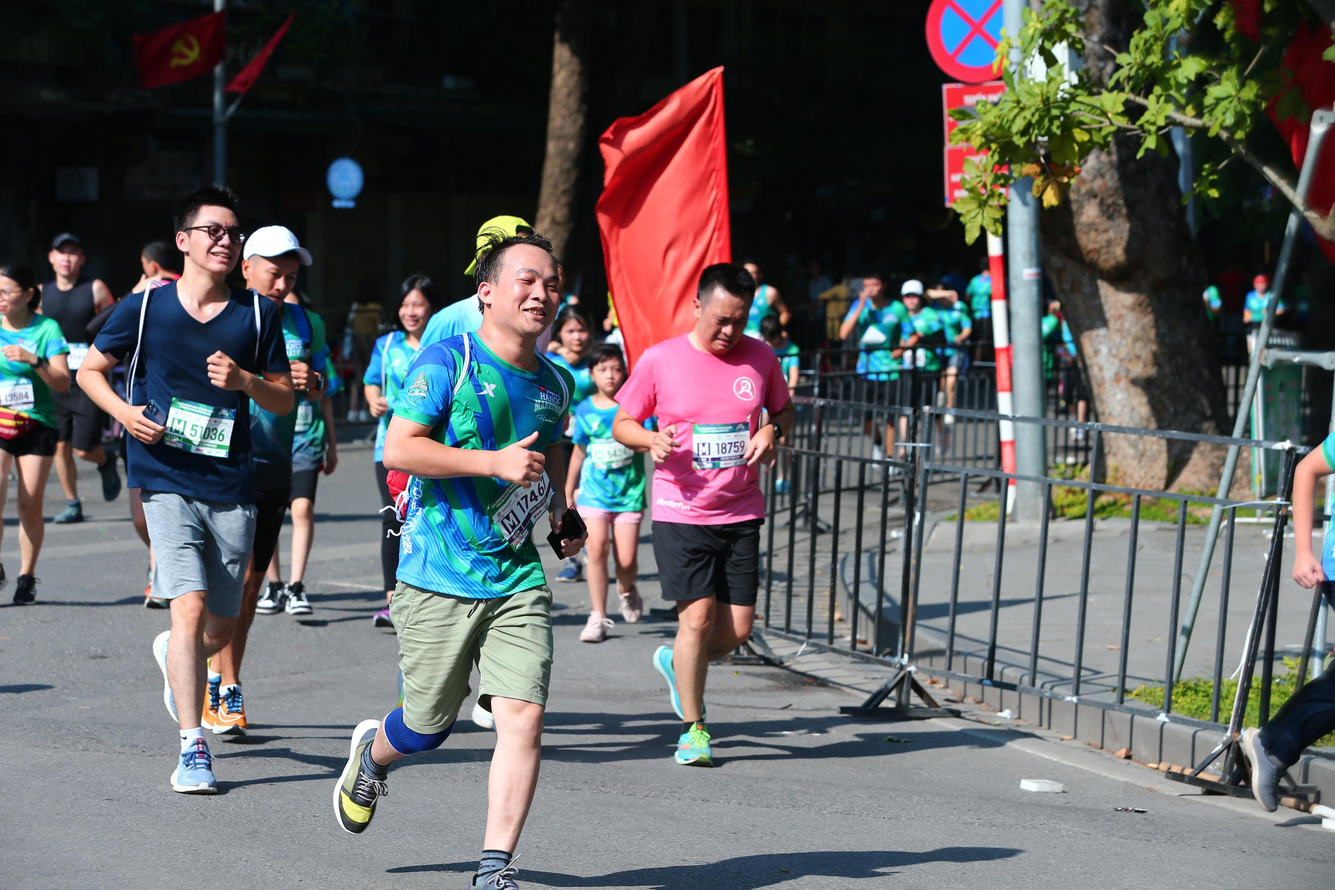bib: (487, 469, 553, 549), (166, 397, 234, 460), (691, 424, 752, 468), (0, 379, 36, 411), (591, 440, 633, 467)
